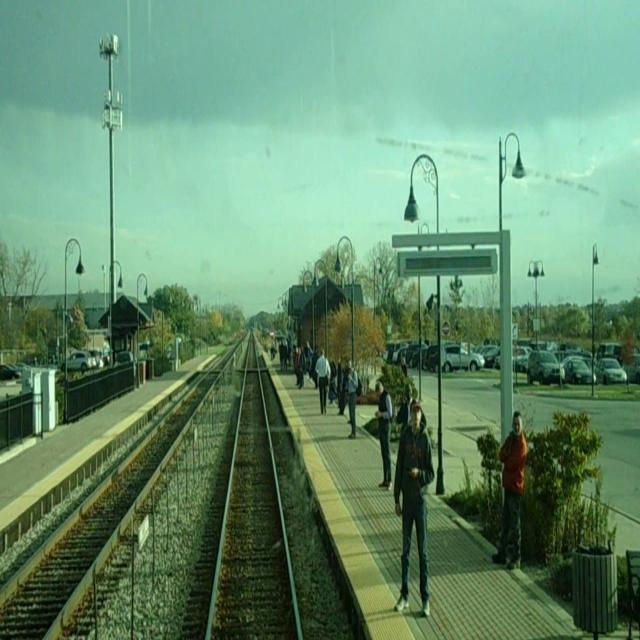car: (527, 350, 567, 386), (444, 347, 487, 373), (562, 359, 598, 386), (597, 359, 630, 385), (60, 352, 94, 375), (599, 344, 626, 369), (406, 345, 429, 368), (624, 355, 640, 385), (2, 365, 24, 381), (430, 352, 441, 374), (89, 351, 101, 367)
person: (394, 402, 438, 618), (491, 410, 530, 568), (375, 383, 397, 495), (397, 385, 430, 431), (350, 361, 363, 441), (316, 350, 331, 416), (336, 355, 345, 411), (298, 347, 307, 391), (295, 348, 303, 386), (307, 344, 314, 382), (271, 339, 277, 361)
